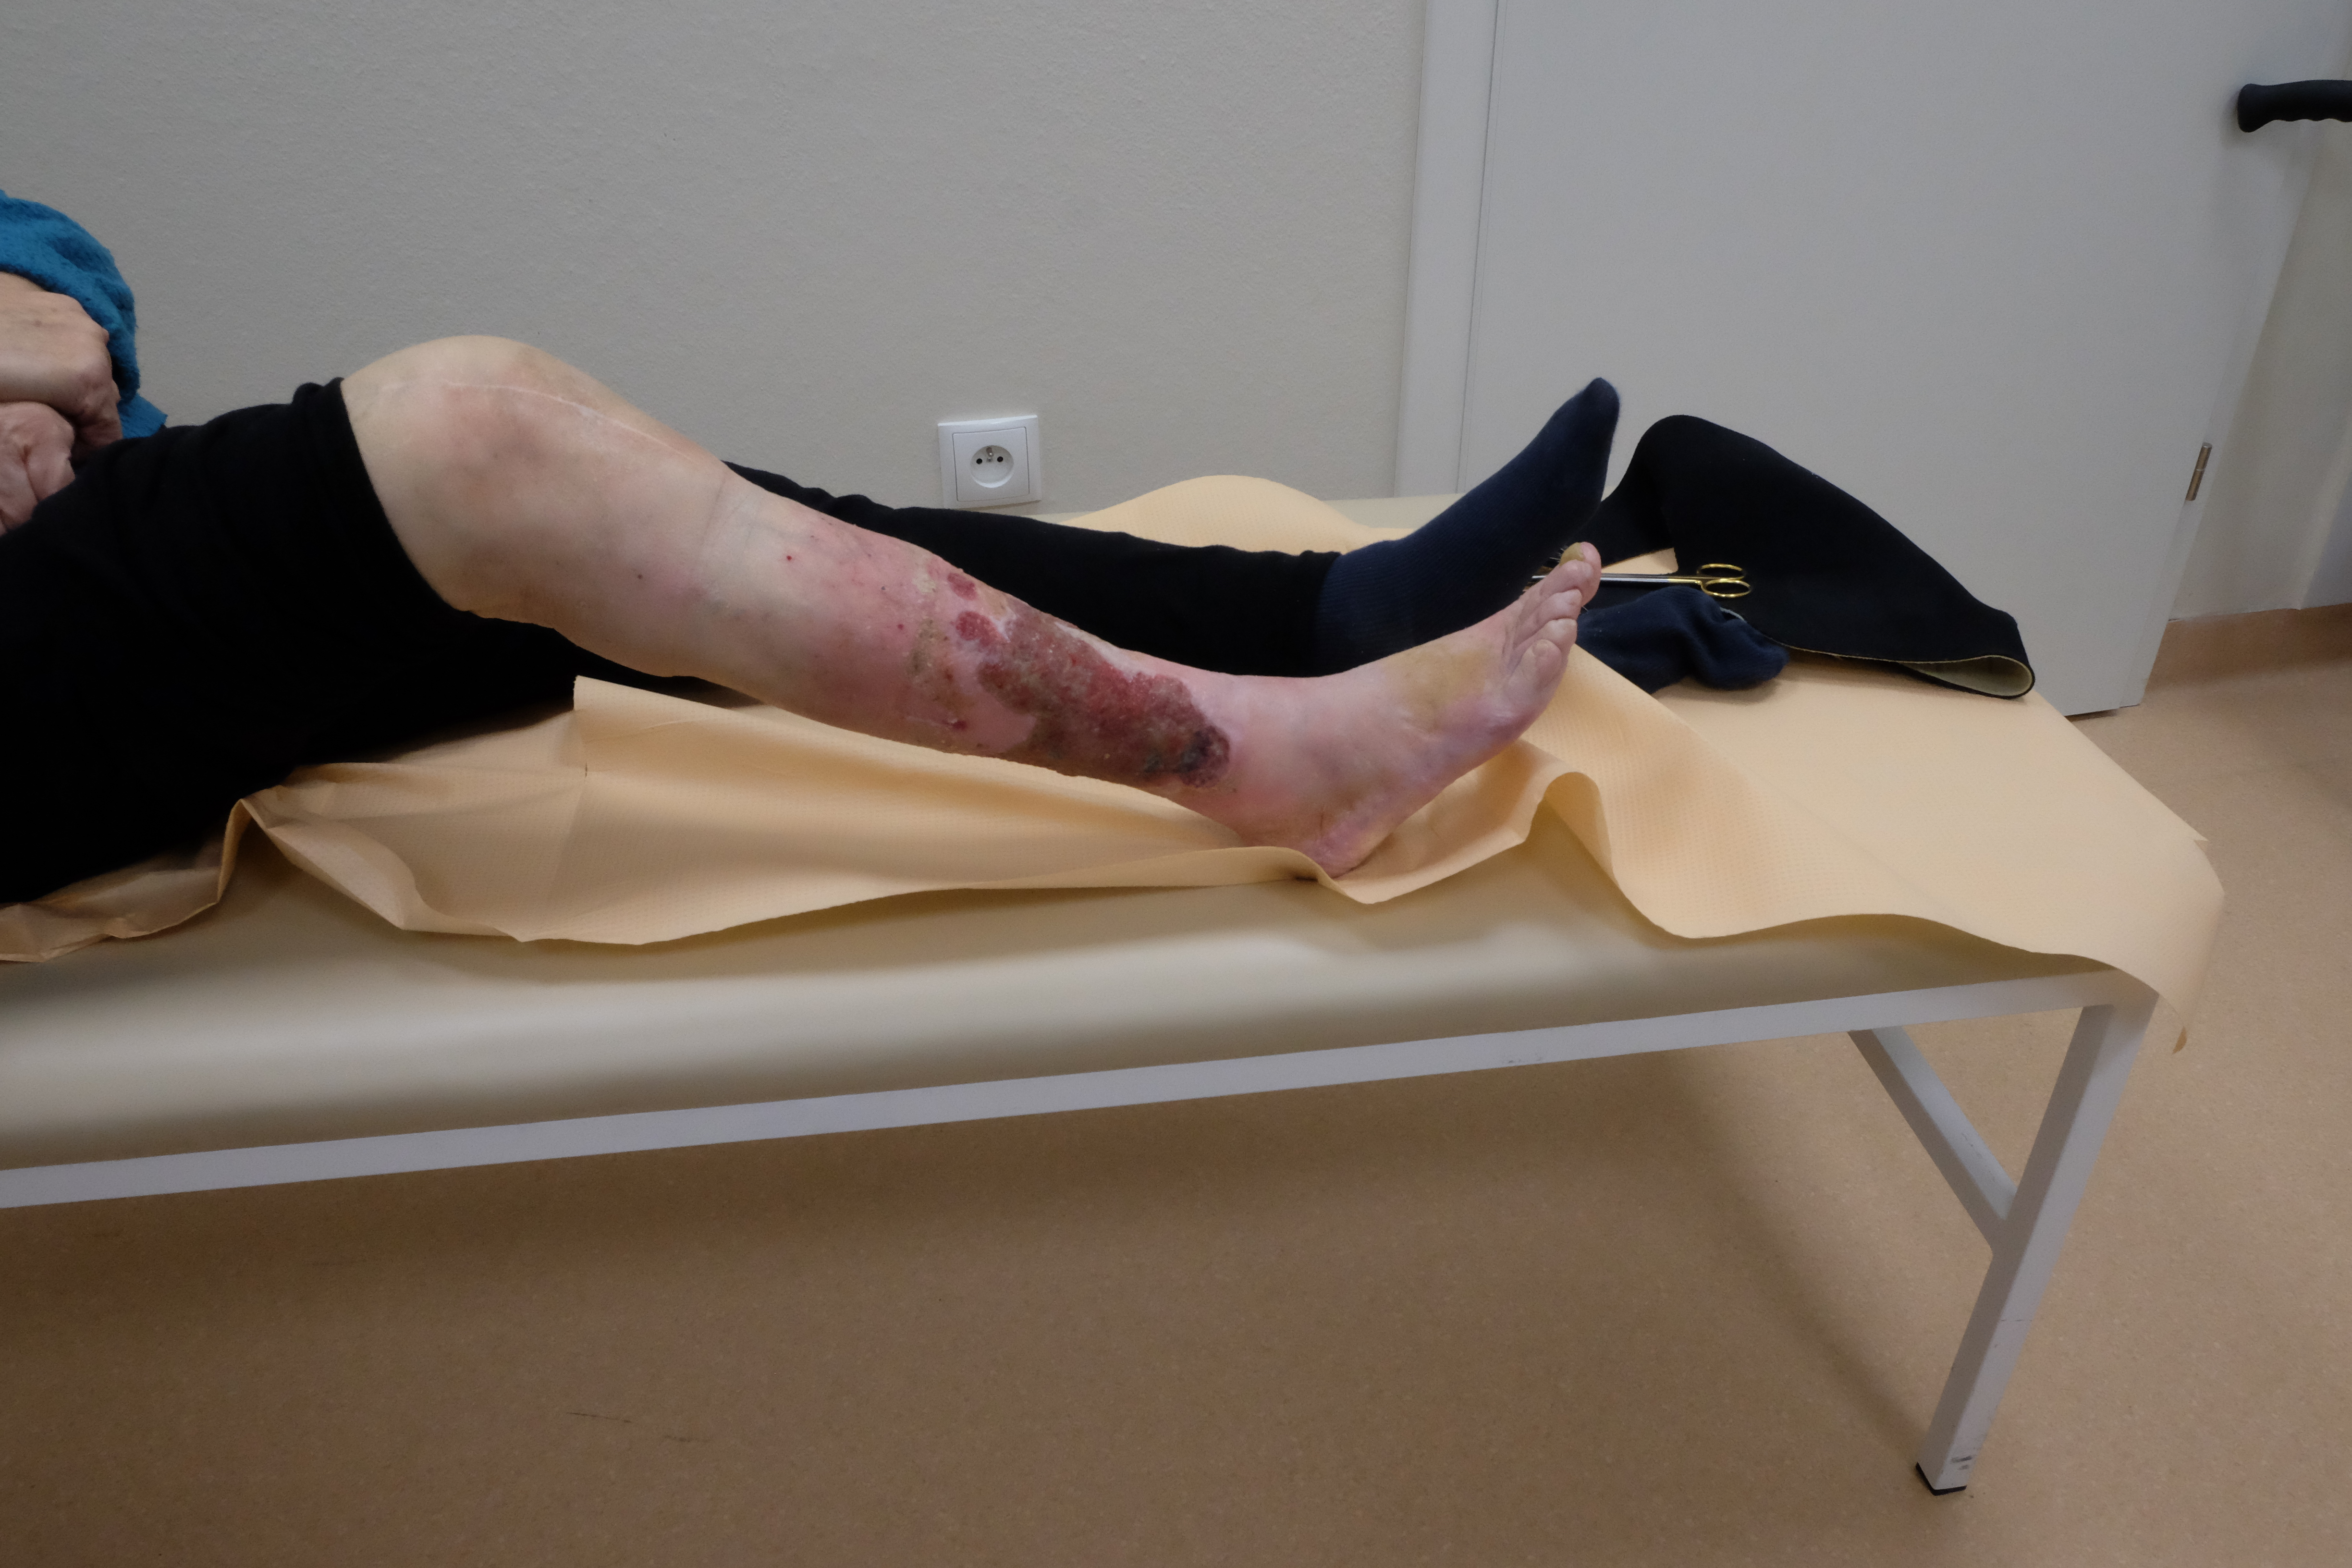wound: (936, 563, 1234, 803)
